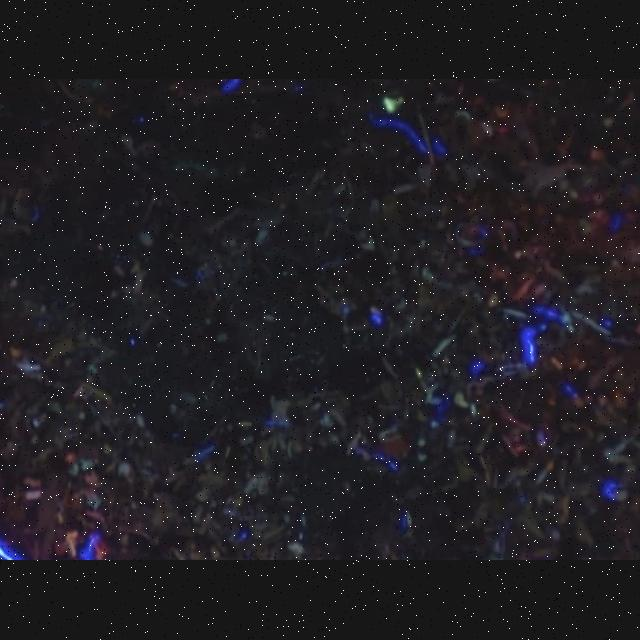microbeads: (382, 96, 402, 114)
